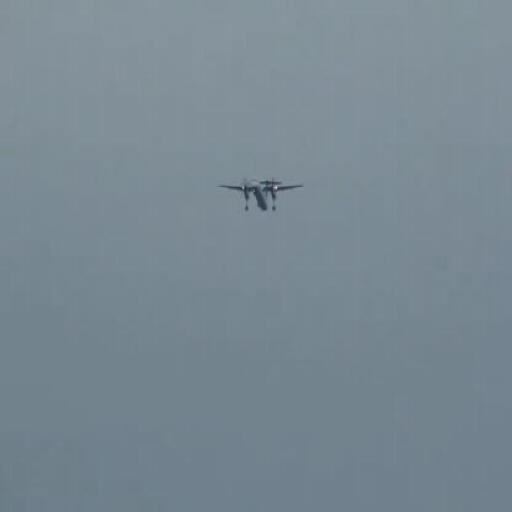aircraft: (218, 181, 304, 212)
